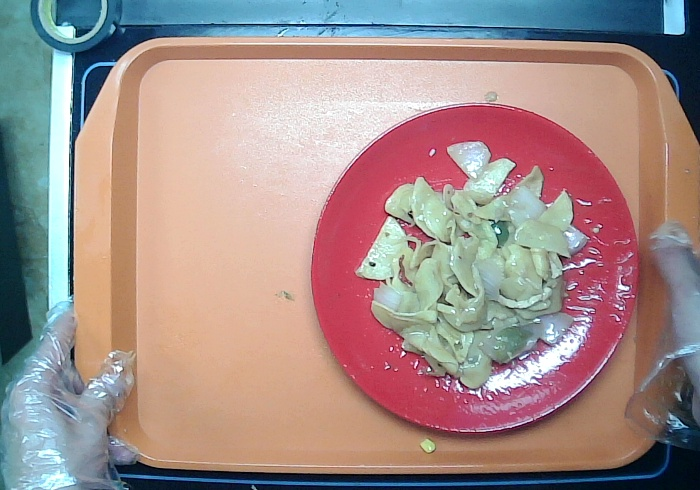HZYJPL-Hong_Se_Yuan_Pan: (307, 100, 642, 436)
